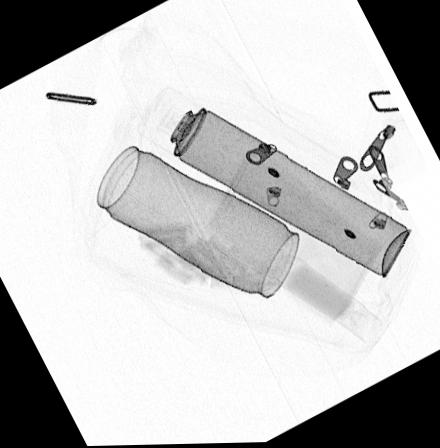Sprayer: (135, 84, 410, 280)
